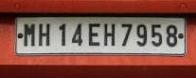1: (57, 22, 66, 46)
4: (70, 22, 82, 46)
5: (149, 22, 162, 46)
7: (119, 22, 132, 46)
8: (165, 23, 177, 46)
9: (134, 22, 147, 45)
E: (86, 21, 100, 45)
H: (101, 21, 116, 46), (36, 21, 50, 46)
M: (21, 22, 36, 46)
